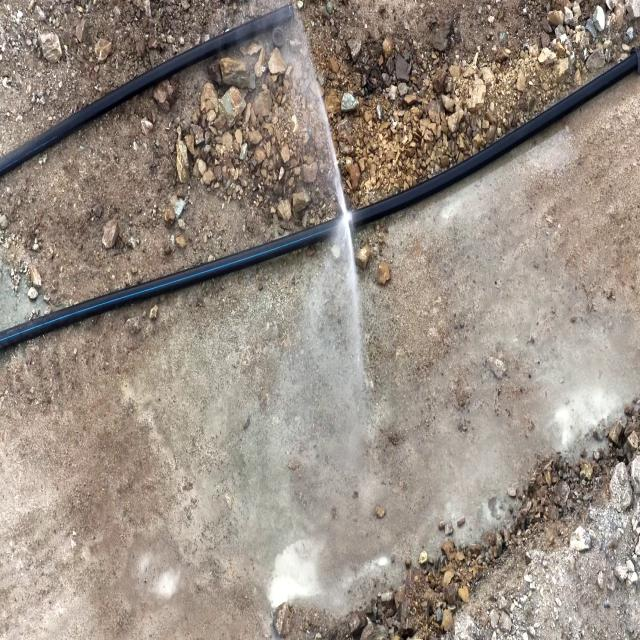leak: (296, 38, 366, 369)
